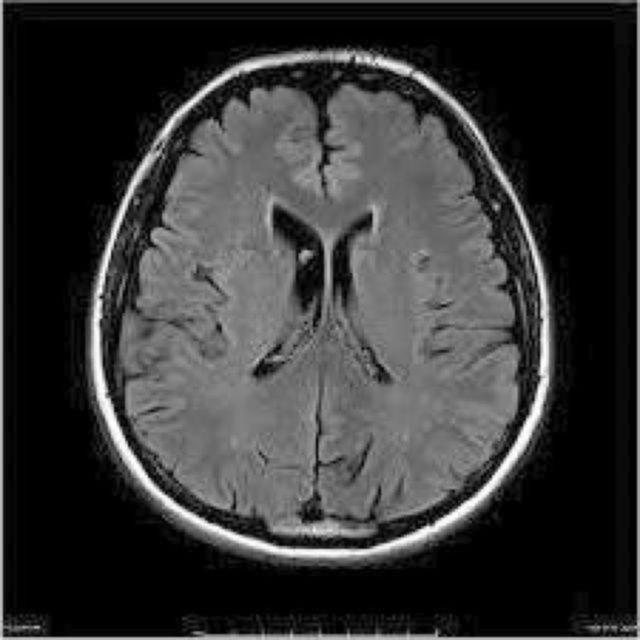glioma tumor: (180, 114, 450, 492)
